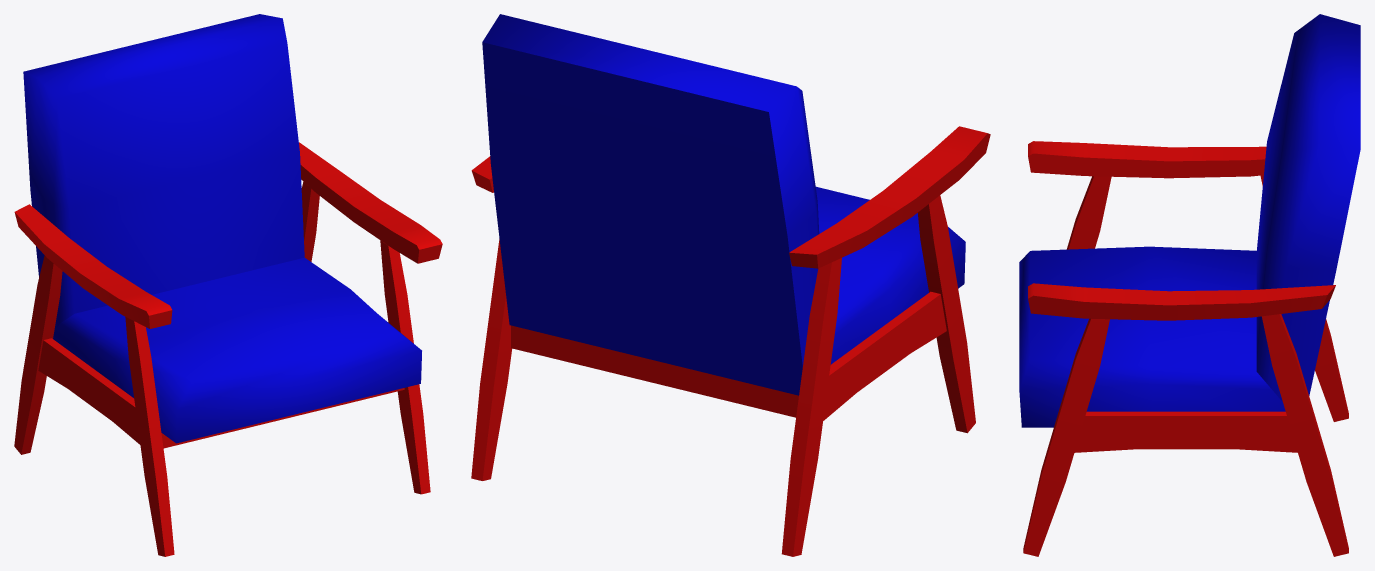
Rendered from Armchair.fbx.
3 views of the same model, side by side, from view 1: azimuth 30°, elevation 25°; view 2: azimuth 150°, elevation 25°; view 3: azimuth 270°, elevation 25° (orthographic). The views are drawn at different scales.
Visible parts, largest first — view 1: Armchair; view 2: Armchair; view 3: Armchair.
Part boxes in pixels (x1,y1,x2,y2): Armchair: [14, 14, 442, 556]; Armchair: [471, 14, 990, 556]; Armchair: [1019, 14, 1360, 556].
Bounding box in the file's own units: 113 × 135 × 102.
